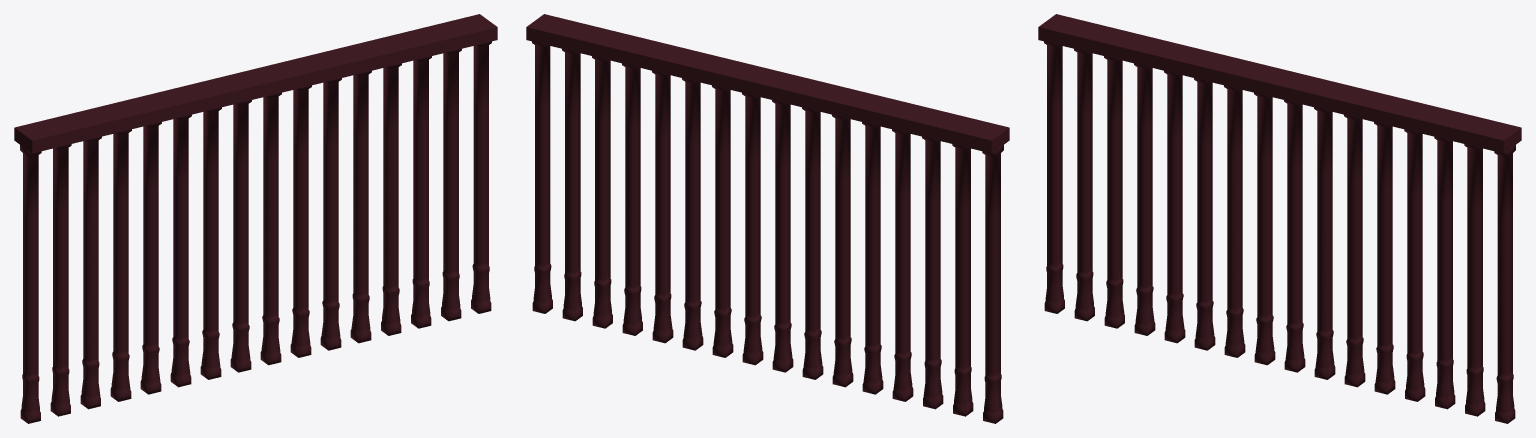
The model's file is Pilars.fbx.
The picture shows the model from 3 angles, left to right: view 1: azimuth 30°, elevation 25°; view 2: azimuth 150°, elevation 25°; view 3: azimuth 330°, elevation 25°; orthographic projection.
Visible parts, largest first — view 1: Window.001; view 2: Window.001; view 3: Window.001.
Boxes of the visible parts, box(x1,y1,x2,y2) form: Window.001: box(14, 14, 497, 423); Window.001: box(526, 14, 1009, 423); Window.001: box(1038, 14, 1521, 423).
Size of the model in its own units: 155 by 91.45 by 10.28.
